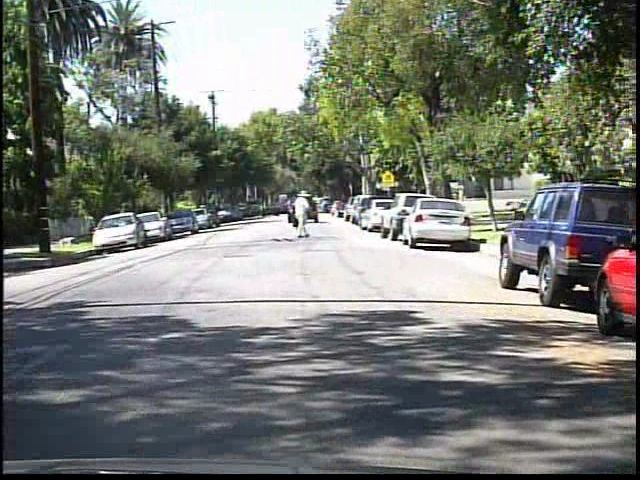person: (288, 190, 317, 241)
